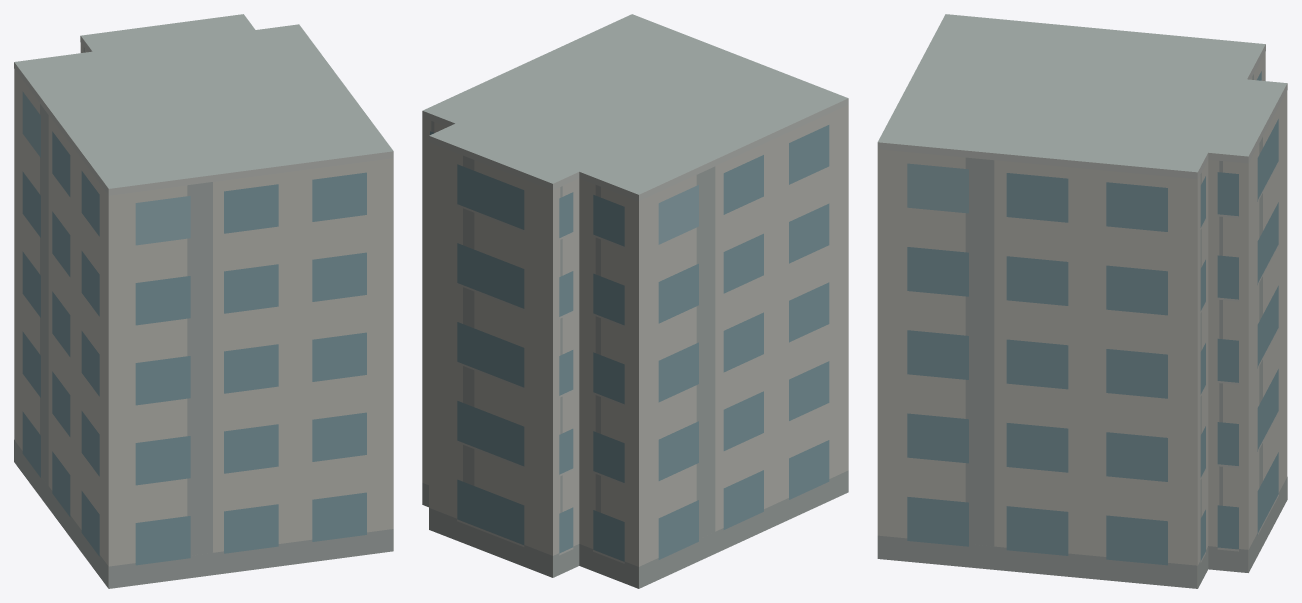
Rendered from survey-upis-32617079.glb.
3 renders of one model, left to right at view 1: azimuth 30°, elevation 25°; view 2: azimuth 150°, elevation 25°; view 3: azimuth 270°, elevation 25°, orthographic. The views are drawn at different scales.
Parts seen in each view (by area): view 1: survey-upis-32617079.tmp; view 2: survey-upis-32617079.tmp; view 3: survey-upis-32617079.tmp.
Boxes of the visible parts, x1,y1,x2,y2 form: survey-upis-32617079.tmp: [14, 14, 393, 588]; survey-upis-32617079.tmp: [422, 14, 848, 588]; survey-upis-32617079.tmp: [877, 14, 1287, 588].
Size of the model in its own units: 11.83 by 14.5 by 12.94.
